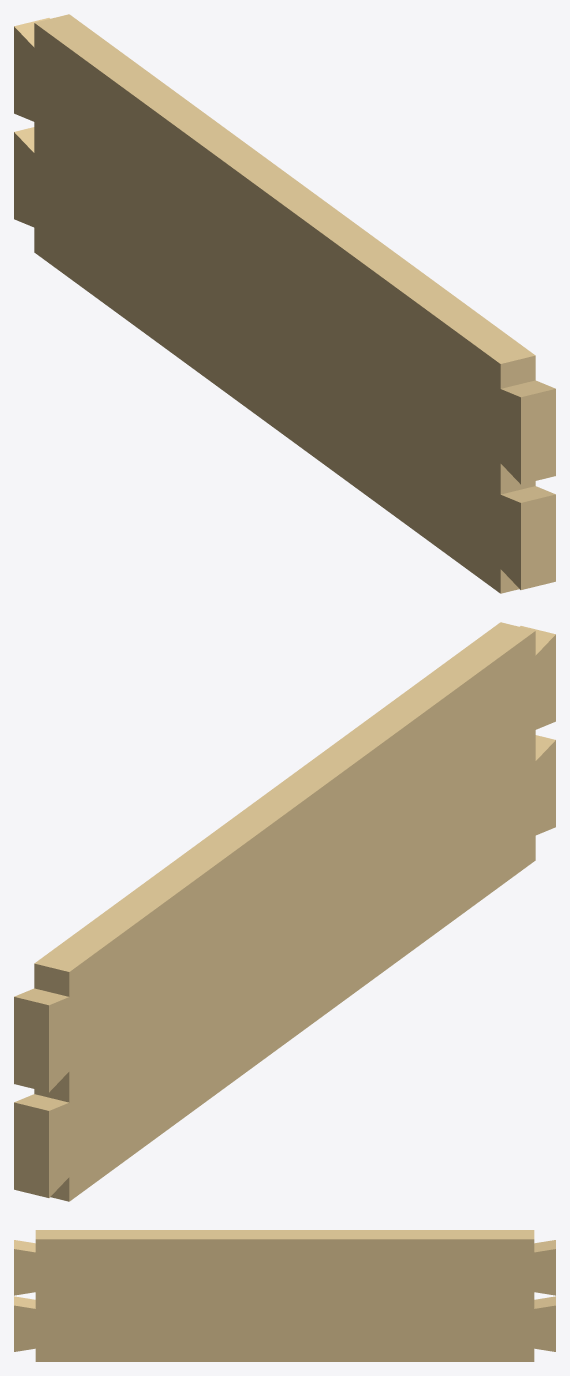
File: original-12.obj
The picture shows the model from 3 angles, top to bottom: view 1: azimuth 30°, elevation 25°; view 2: azimuth 150°, elevation 25°; view 3: azimuth 270°, elevation 25°; orthographic projection. The views are drawn at different scales.
Parts seen in each view (by area): view 1: Group12/mesh11/mesh11-geometry#mesh11-geometry; view 2: Group12/mesh11/mesh11-geometry#mesh11-geometry; view 3: Group12/mesh11/mesh11-geometry#mesh11-geometry.
Part boxes in pixels (box(x1,y1,x2,y2)): Group12/mesh11/mesh11-geometry#mesh11-geometry: box(14, 14, 555, 593); Group12/mesh11/mesh11-geometry#mesh11-geometry: box(14, 622, 555, 1201); Group12/mesh11/mesh11-geometry#mesh11-geometry: box(14, 1230, 555, 1361).
Size of the model in its own units: 0.00985 by 0.0616 by 0.2462.
